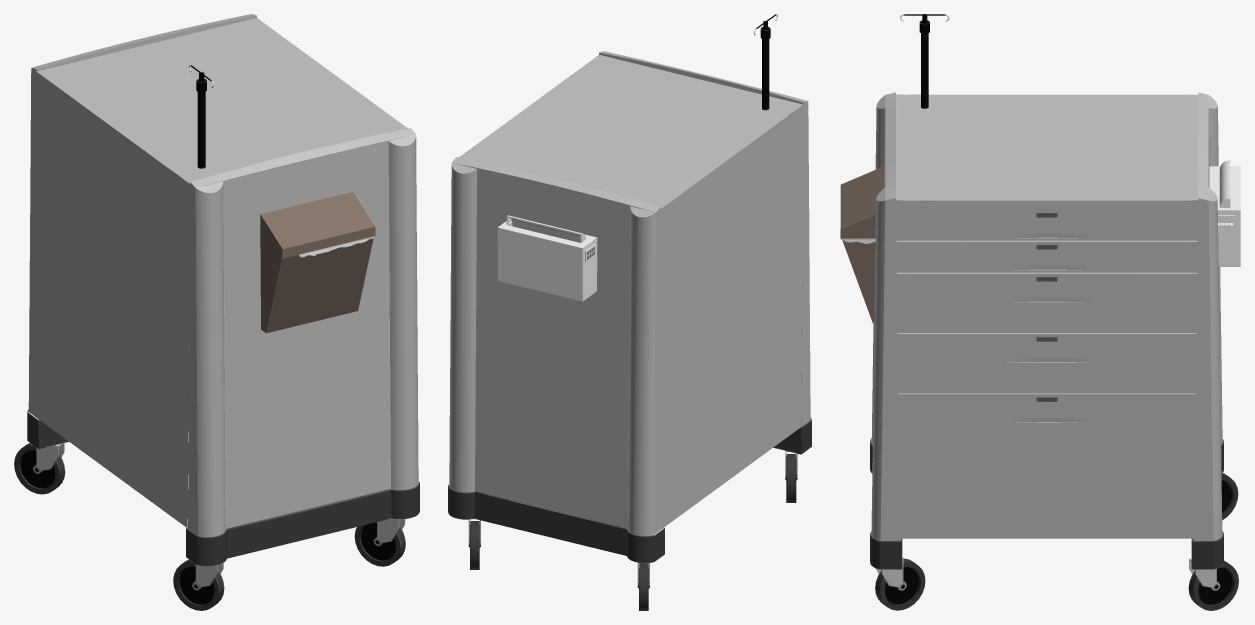
The model's file is Crash Cart.fbx.
3 renders of one model, left to right at view 1: azimuth 30°, elevation 25°; view 2: azimuth 150°, elevation 25°; view 3: azimuth 270°, elevation 25°, orthographic. The views are drawn at different scales.
Parts seen in each view (by area): view 1: Mesh10; view 2: Mesh10; view 3: Mesh10.
Boxes of the visible parts, bbox=[...] form: Mesh10: bbox=[14, 14, 419, 610]; Mesh10: bbox=[448, 14, 811, 610]; Mesh10: bbox=[840, 14, 1240, 610].
Bounding box in the file's own units: 62.58 × 138 × 97.47.
